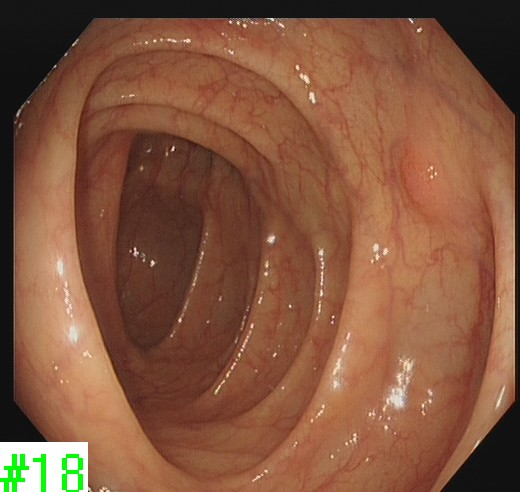adenoma: (394, 138, 444, 206)
